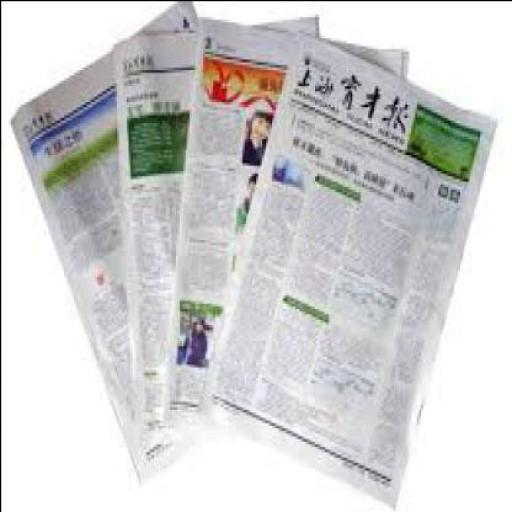paper: (194, 26, 493, 506), (6, 1, 283, 486), (161, 21, 404, 454), (110, 11, 316, 446)
